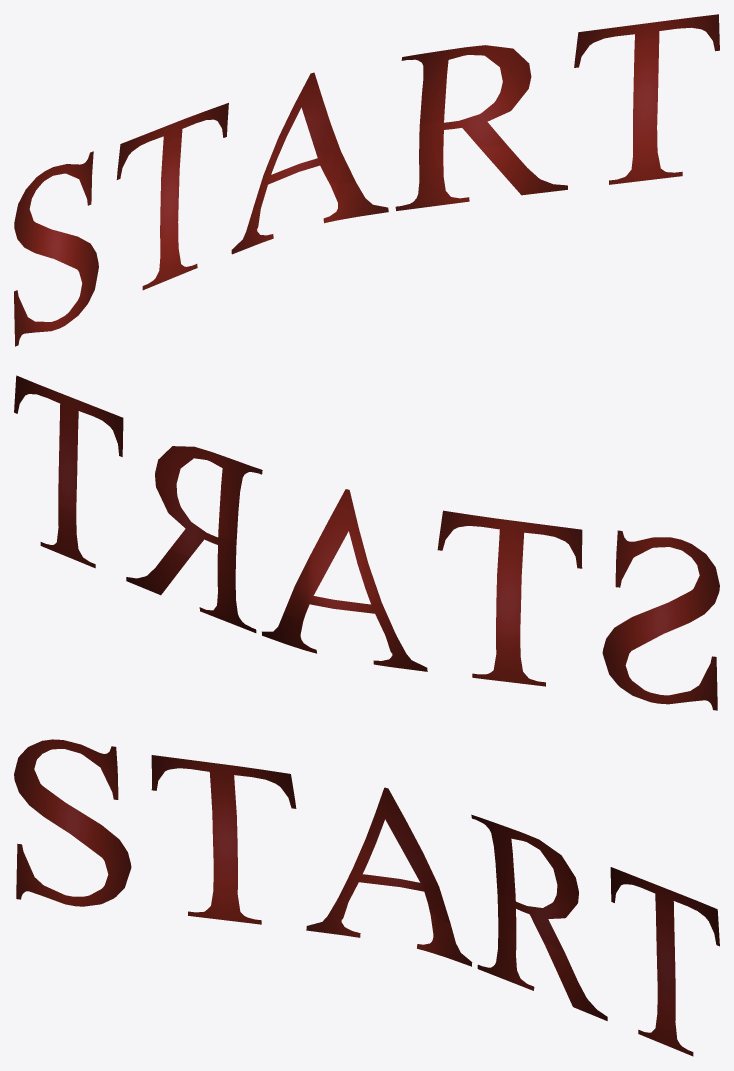
The model's file is StartButtonText.obj.
3 renders of one model, top to bottom at view 1: azimuth 30°, elevation 25°; view 2: azimuth 150°, elevation 25°; view 3: azimuth 330°, elevation 25°, orthographic.
Parts seen in each view (by area): view 1: StartButtonText; view 2: StartButtonText; view 3: StartButtonText.
Part boxes in pixels (x1=…): StartButtonText: x1=14, y1=14, x2=719, y2=346; StartButtonText: x1=14, y1=375, x2=719, y2=710; StartButtonText: x1=14, y1=739, x2=719, y2=1056.
Size of the model in its own units: 5.69 by 1.28 by 0.7395.
1 material, 1 textured.
